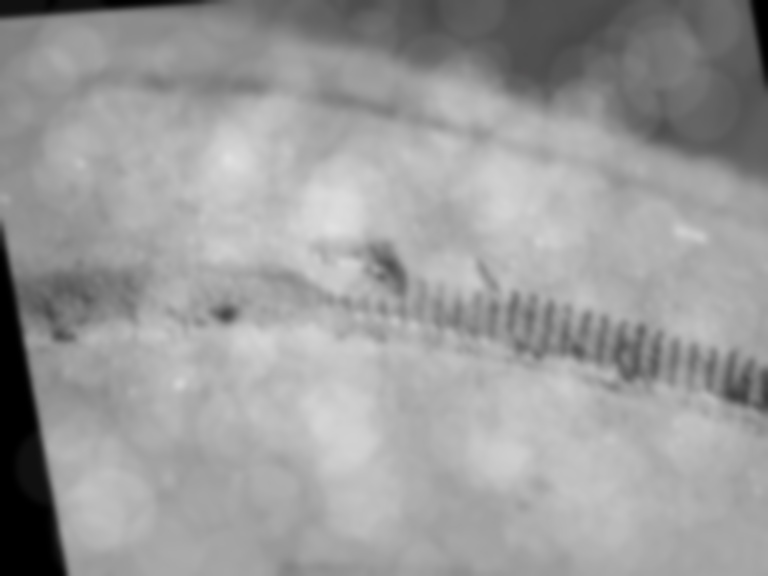temoin:25: (288, 207, 527, 376)
